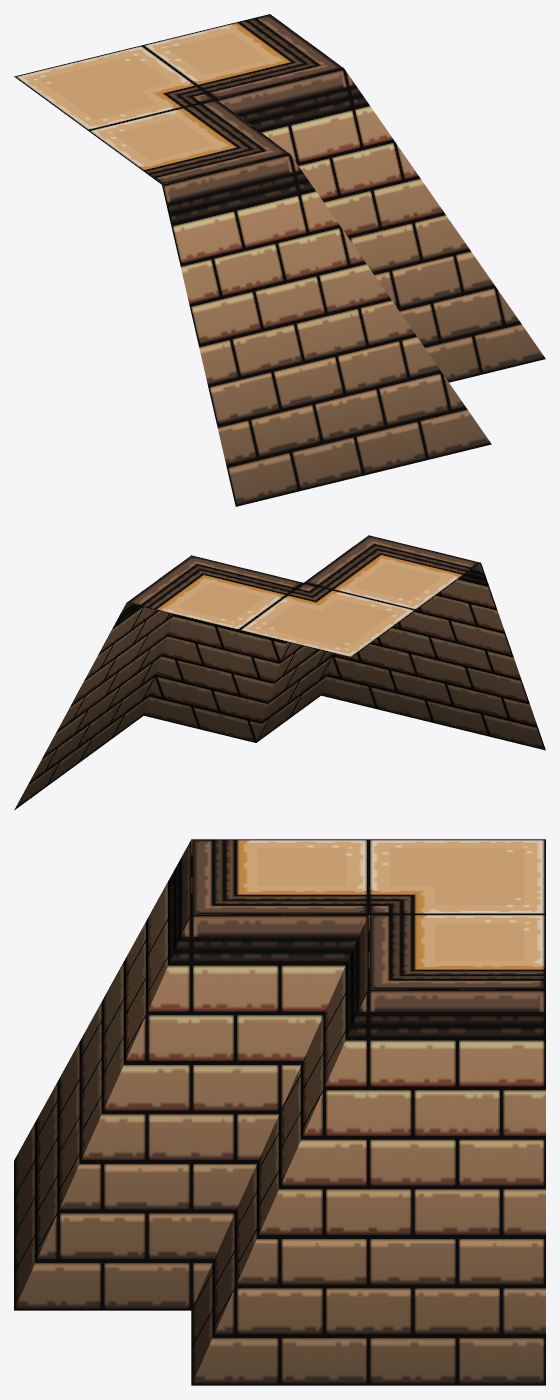
The model's file is wall_cornerOutIn.FBX.
3 renders of one model, top to bottom at view 1: azimuth 30°, elevation 25°; view 2: azimuth 150°, elevation 25°; view 3: azimuth 270°, elevation 25°, orthographic. The views are drawn at different scales.
Visible parts, largest first — view 1: wall_cornerOutIn; view 2: wall_cornerOutIn; view 3: wall_cornerOutIn.
Boxes of the visible parts, <box> form: wall_cornerOutIn: <box>14,14,545,506</box>; wall_cornerOutIn: <box>14,535,545,810</box>; wall_cornerOutIn: <box>14,839,545,1385</box>.
Bounding box in the file's own units: 6 × 4 × 6.
1 material, 1 textured.
